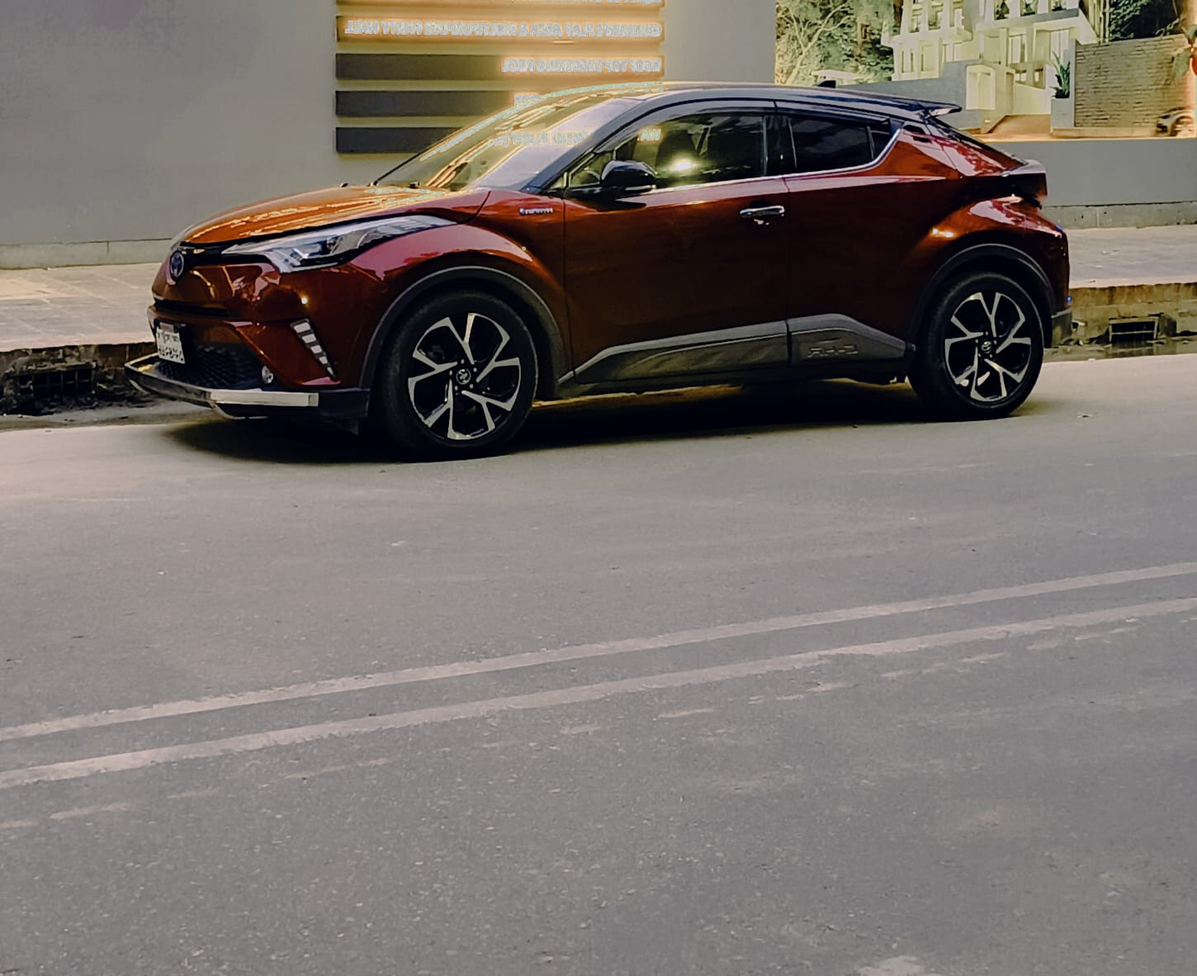private car: (145, 62, 1145, 483)
